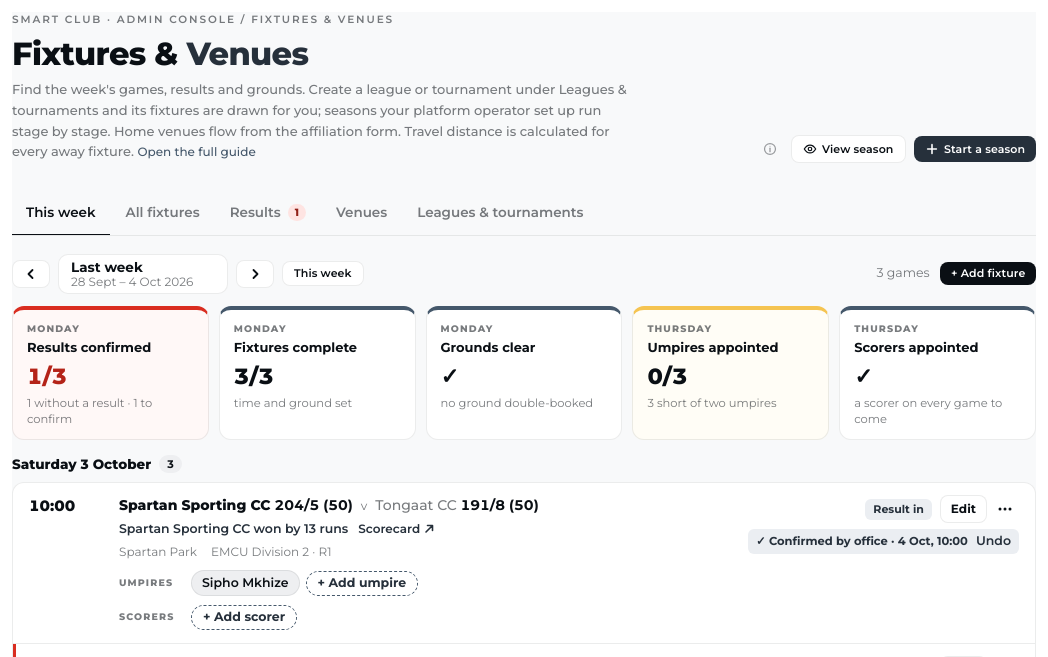
Test: This week › a check narrows the week to the games that need it
Click the button "Results confirmed" at [110, 373], box [12,306,209,440]
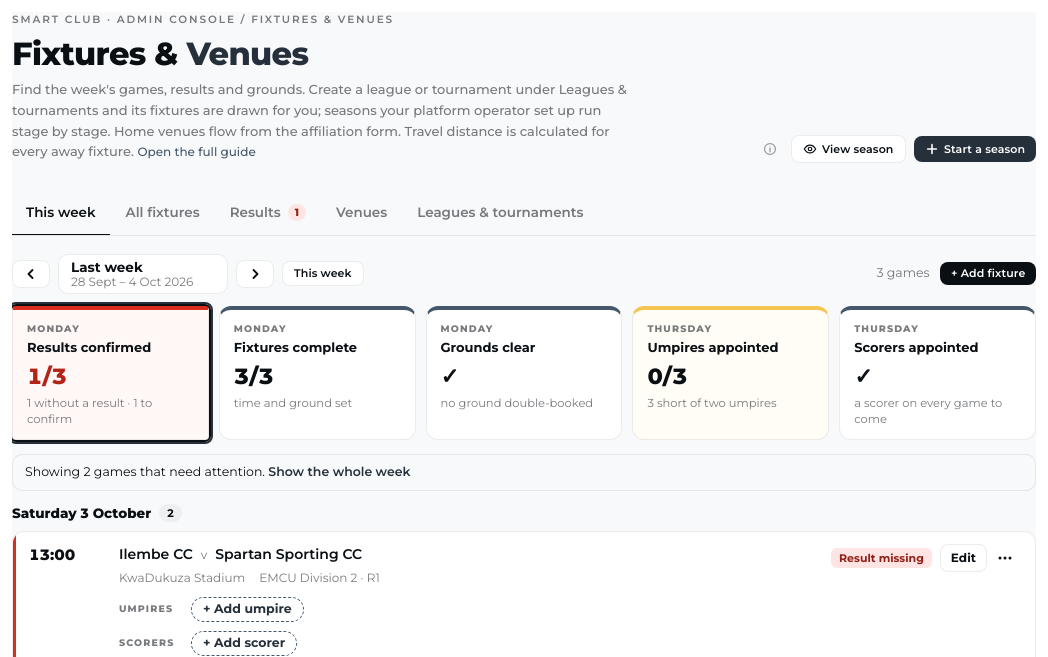
Click the button "Show the whole week" at [339, 472], box [268,463,410,482]
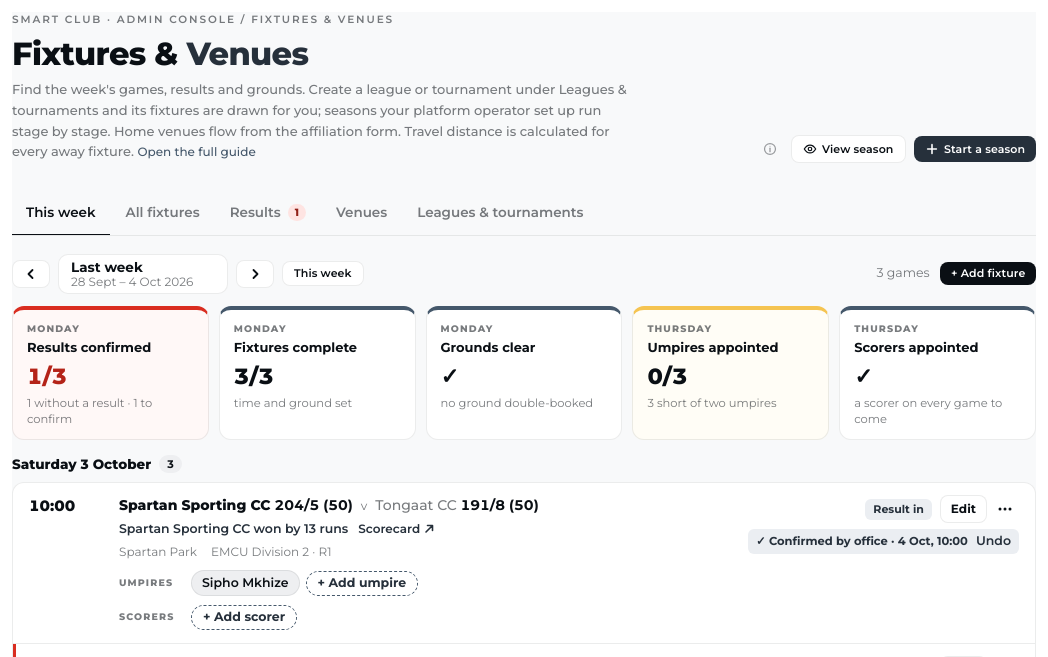
Check: the number of list items is 3
